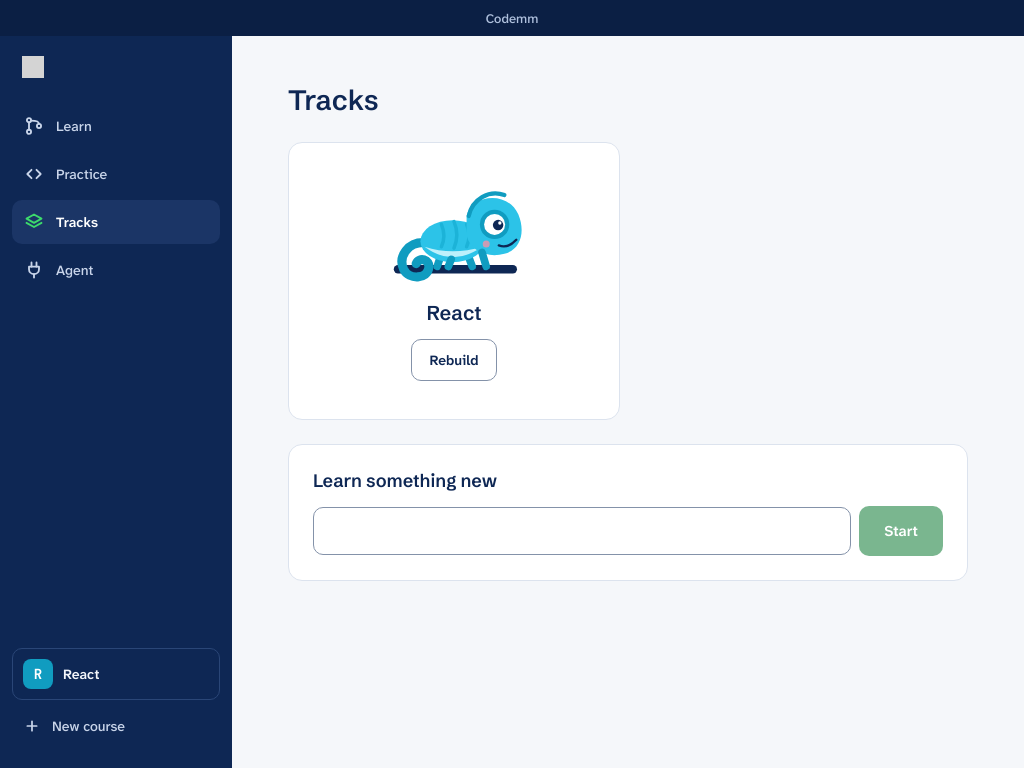
Test: tracks › says on the card that a rebuild failed, and the same button tries again
The image size is (1024, 768).
Click the button "Rebuild" at (454, 360), box [411, 339, 498, 381]
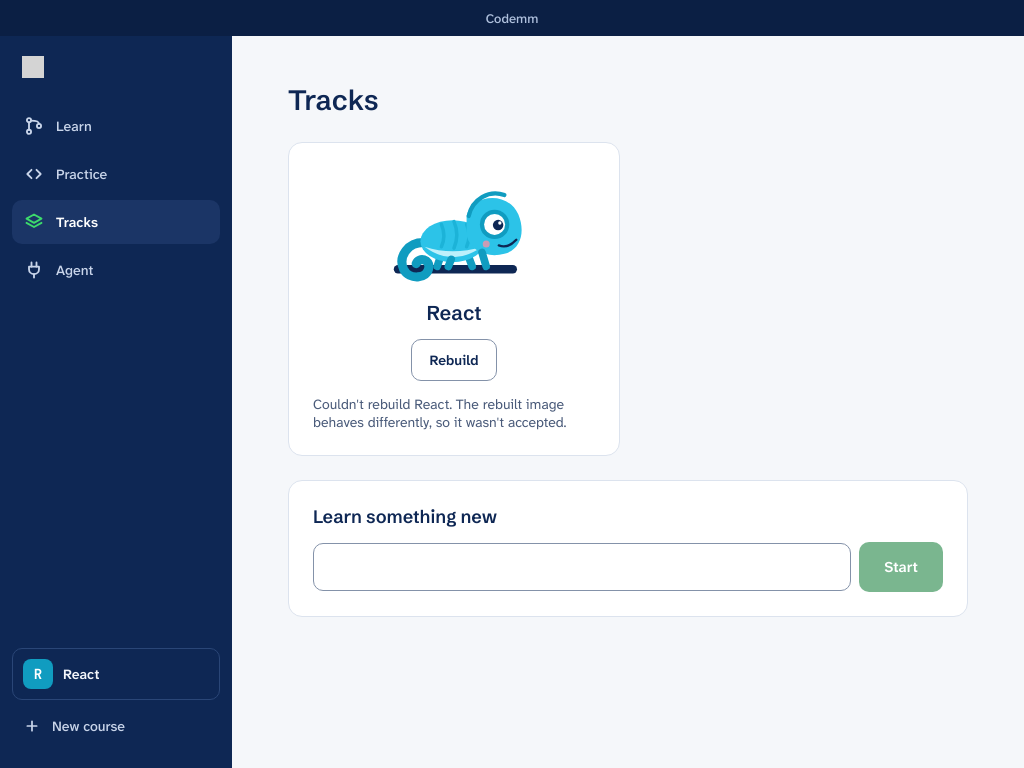
Check: the list item "React" does not show "ex-1", box [288, 142, 620, 456]
Check: the text "Couldn't rebuild React. The rebuilt image behaves differently, so it wasn't accepted." is shown, box [313, 395, 566, 431]
Click the button "Rebuild" at (454, 360), box [411, 339, 498, 381]
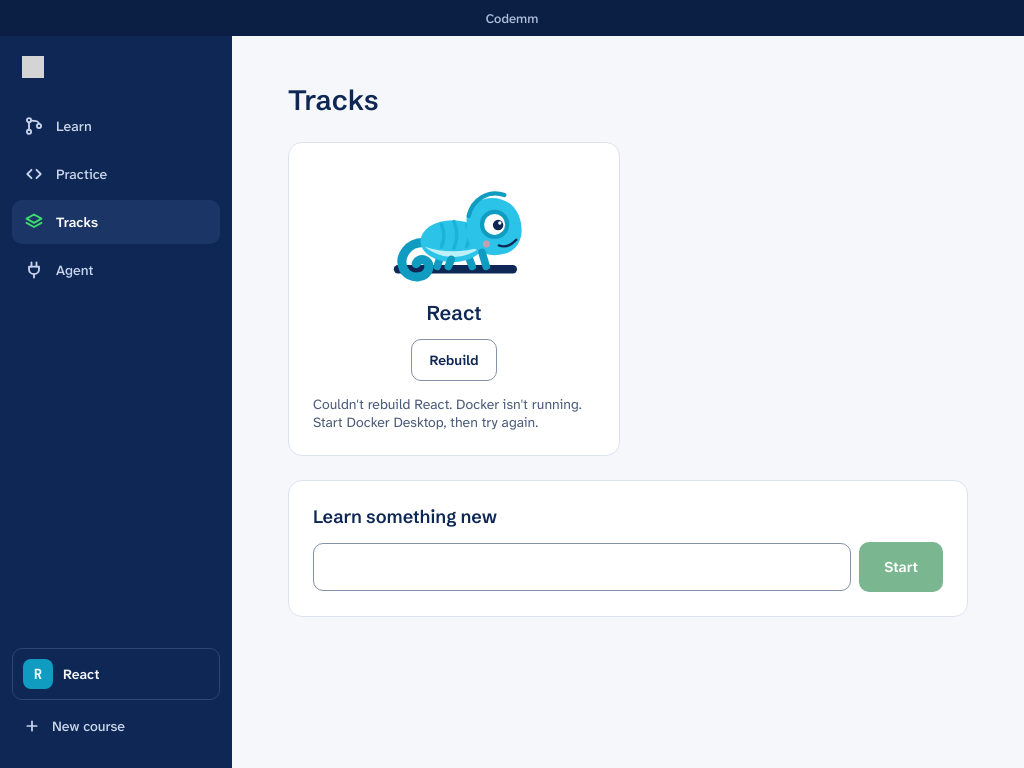
Check: the text "Couldn't rebuild React. Docker isn't running. Start Docker Desktop, then try again." is shown, box [313, 395, 582, 431]
Click the button "Rebuild" at (454, 360), box [411, 339, 498, 381]
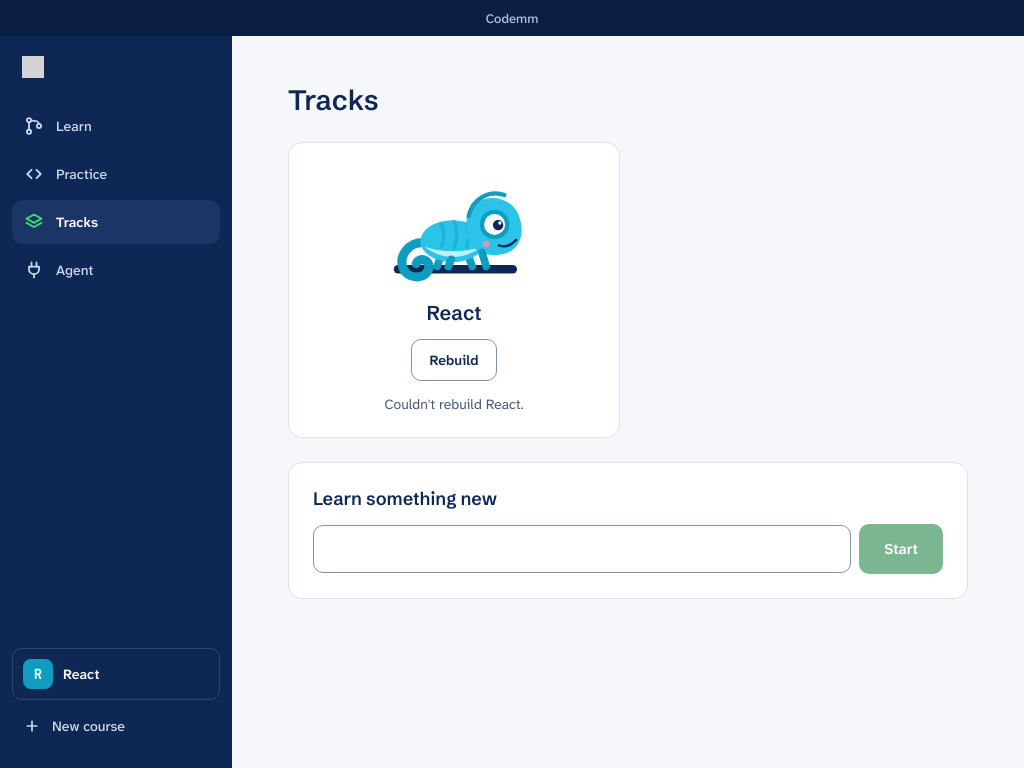
Check: the text "Couldn't rebuild React." is shown, box [384, 395, 524, 413]
Click the button "Rebuild" at (454, 360), box [411, 339, 498, 381]
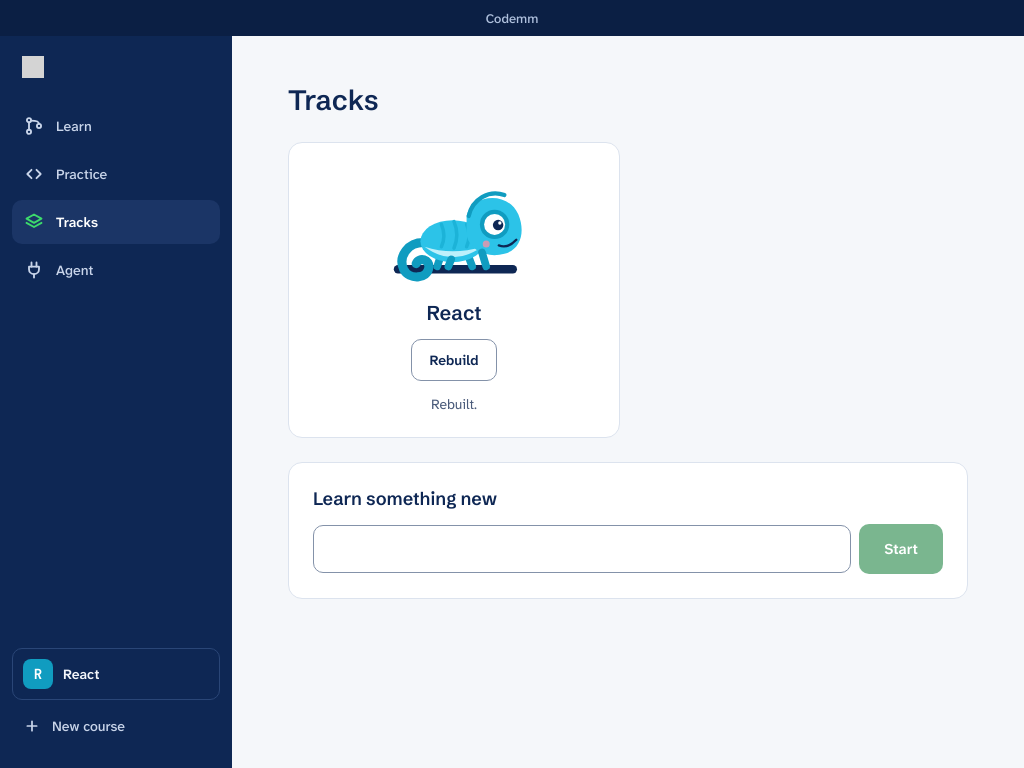
Check: the message reads "Rebuilt.", box [431, 395, 477, 413]
Check: the list item "React" no longer shows "Couldn't rebuild", box [288, 142, 620, 438]
